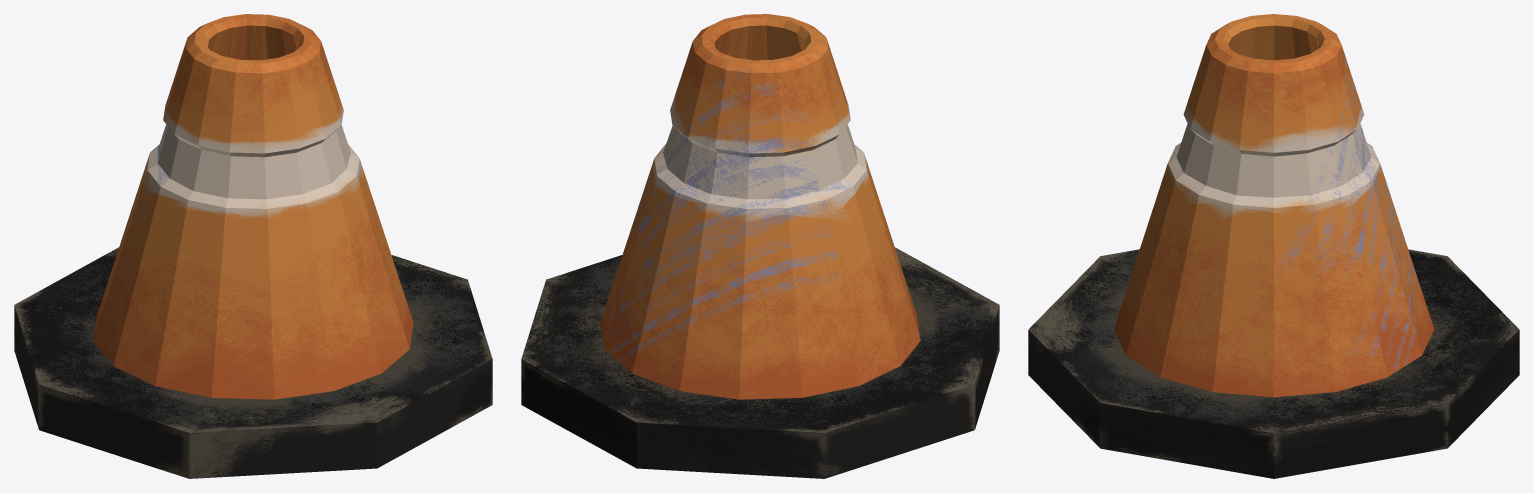
File: traffic_cone.glb
3 views of the same model, side by side, from view 1: azimuth 30°, elevation 25°; view 2: azimuth 150°, elevation 25°; view 3: azimuth 270°, elevation 25° (orthographic).
Parts seen in each view (by area): view 1: cone, base; view 2: cone, base; view 3: cone, base.
Boxes of the visible parts, box(x1,y1,x2,y2) form: cone: box(93, 14, 413, 399); base: box(14, 247, 492, 478); cone: box(600, 14, 920, 399); base: box(521, 247, 999, 478); cone: box(1113, 14, 1434, 397); base: box(1028, 249, 1519, 478).
Bounding box in the file's own units: 2 × 1.51 × 2.
2 materials, 2 textured.
